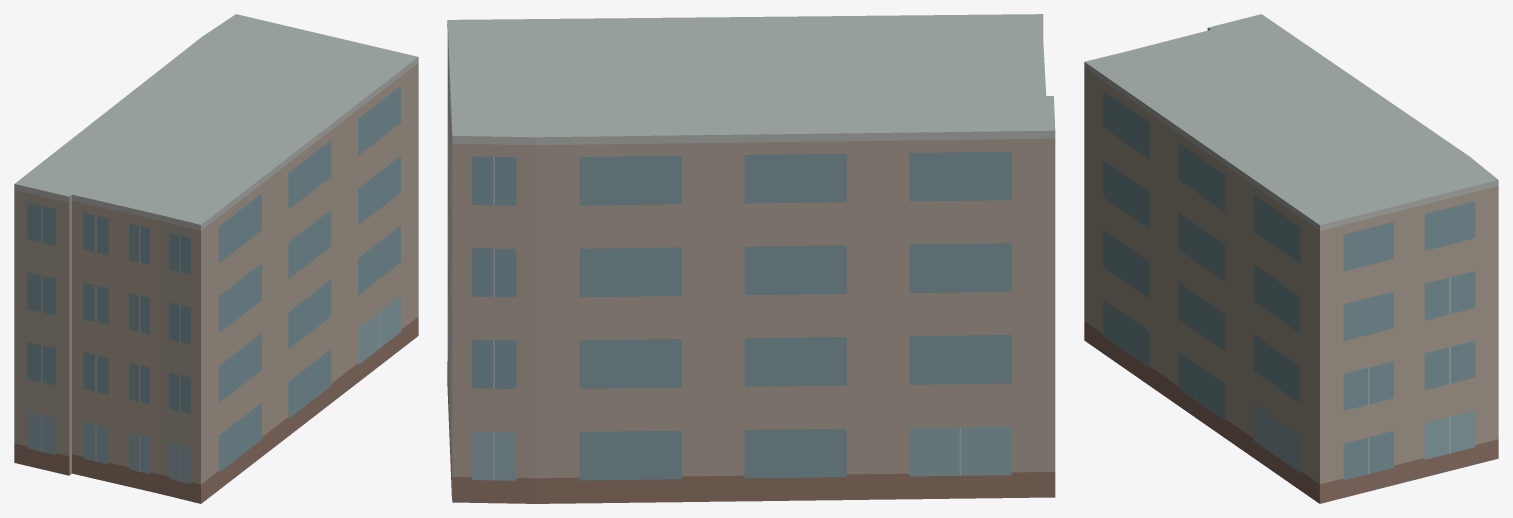
File: survey-upis-32758168.glb
3 views of the same model, side by side, from view 1: azimuth 30°, elevation 25°; view 2: azimuth 150°, elevation 25°; view 3: azimuth 270°, elevation 25° (orthographic). The views are drawn at different scales.
Parts seen in each view (by area): view 1: survey-upis-32758168.tmp; view 2: survey-upis-32758168.tmp; view 3: survey-upis-32758168.tmp.
Boxes of the visible parts, bbox=[...] form: survey-upis-32758168.tmp: bbox=[14, 14, 418, 503]; survey-upis-32758168.tmp: bbox=[447, 14, 1055, 503]; survey-upis-32758168.tmp: bbox=[1084, 14, 1498, 503].
Bounding box in the file's own units: 18.54 × 11.4 × 15.37.
